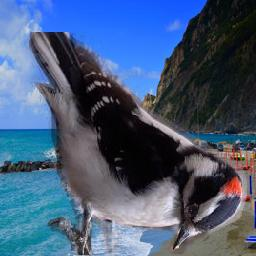Woodpecker: (29, 33, 247, 256)
